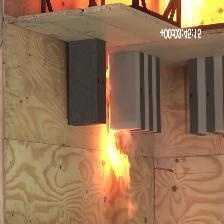fire: (92, 108, 134, 202)
